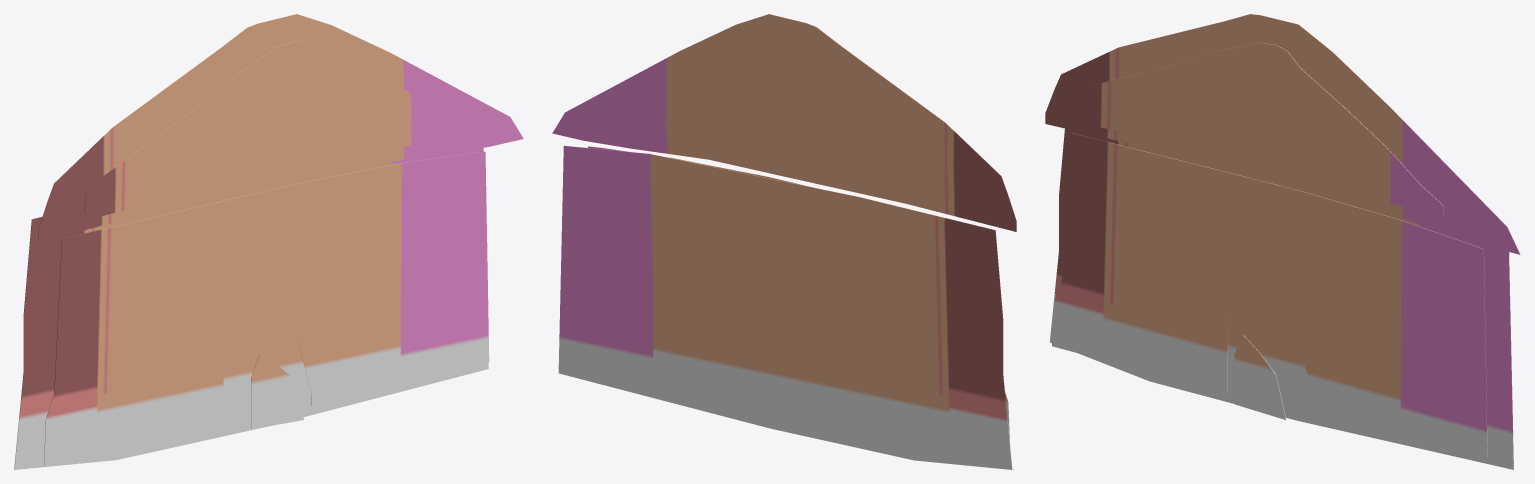
Rendered from village.fbx_village_house_10.fbx.
3 views of the same model, side by side, from view 1: azimuth 30°, elevation 25°; view 2: azimuth 150°, elevation 25°; view 3: azimuth 330°, elevation 25° (orthographic). The views are drawn at different scales.
Visible parts, largest first — view 1: house inside, outline, roof, house; view 2: house, roof; view 3: house inside, outline, roof, house.
Part boxes in pixels (x1,y1,x2,y2): house inside: (44, 151, 489, 466); outline: (84, 41, 465, 429); roof: (38, 14, 523, 241); house: (14, 148, 488, 469); house: (558, 145, 1012, 469); roof: (552, 14, 1016, 231); house inside: (1052, 132, 1487, 456); outline: (1071, 42, 1443, 419); roof: (1045, 14, 1520, 254); house: (1050, 128, 1513, 469).
Size of the model in its own units: 945 by 764 by 80.61.
